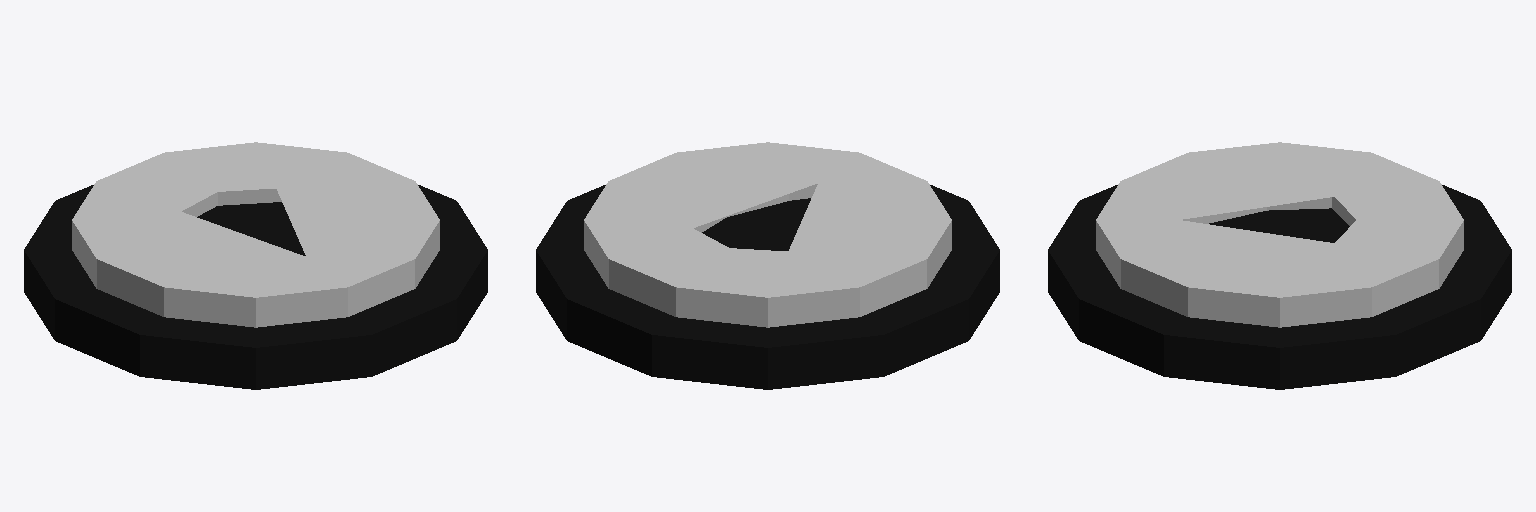
3 views of the same model, side by side, from view 1: azimuth 30°, elevation 25°; view 2: azimuth 150°, elevation 25°; view 3: azimuth 270°, elevation 25° (orthographic).
Parts seen in each view (by area): view 1: Cylinder.001, Cylinder, Cylinder.002; view 2: Cylinder.001, Cylinder, Cylinder.002; view 3: Cylinder.001, Cylinder, Cylinder.002.
Part boxes in pixels (x1,y1,x2,y2): Cylinder.001: (72, 142, 439, 327); Cylinder: (24, 185, 487, 389); Cylinder.002: (197, 202, 305, 255); Cylinder.001: (584, 142, 951, 327); Cylinder: (536, 185, 999, 389); Cylinder.002: (702, 198, 810, 250); Cylinder.001: (1096, 142, 1463, 327); Cylinder: (1048, 185, 1511, 389); Cylinder.002: (1209, 208, 1349, 242).
Size of the model in its own units: 2 by 0.342 by 2.
2 materials, 1 textured.